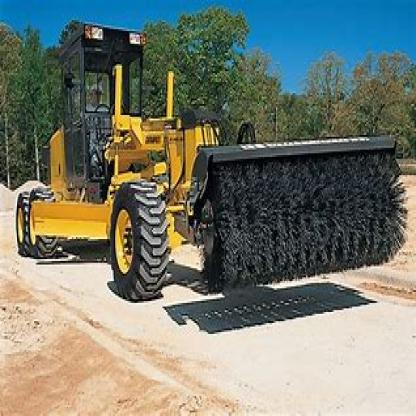bull_dozer/loader/grader: (13, 13, 212, 312)
